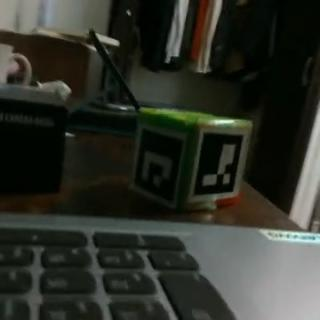armor: (128, 124, 189, 204), (190, 127, 248, 199)
robot: (127, 108, 253, 214)
